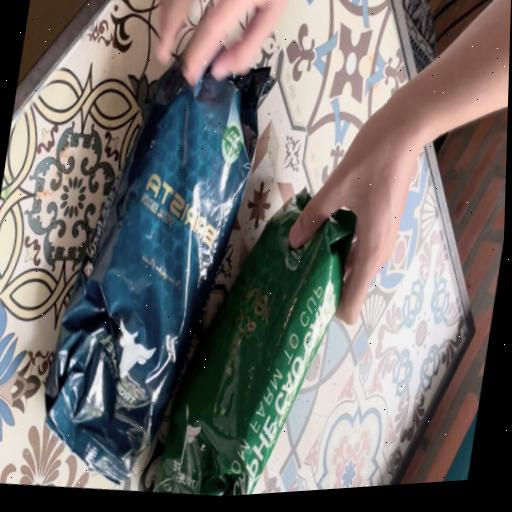cafe_hat: (45, 64, 273, 483)
cafe_xay: (153, 191, 355, 496)
